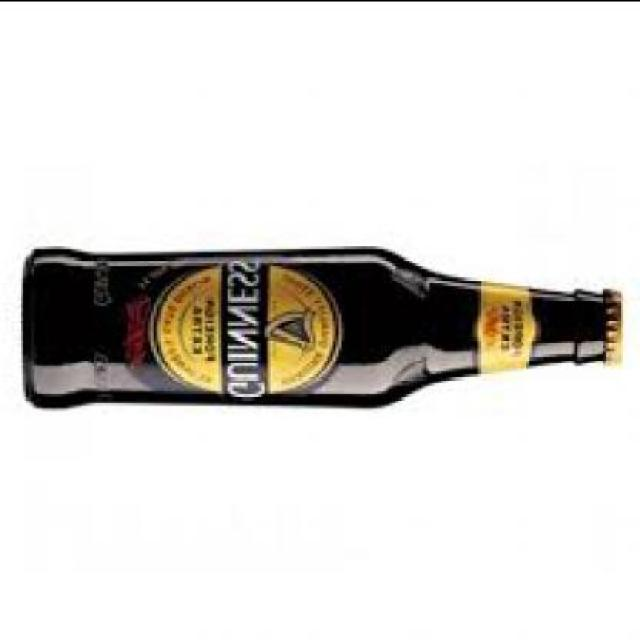GLASS: (23, 247, 611, 407)
METAL: (608, 293, 628, 367)
